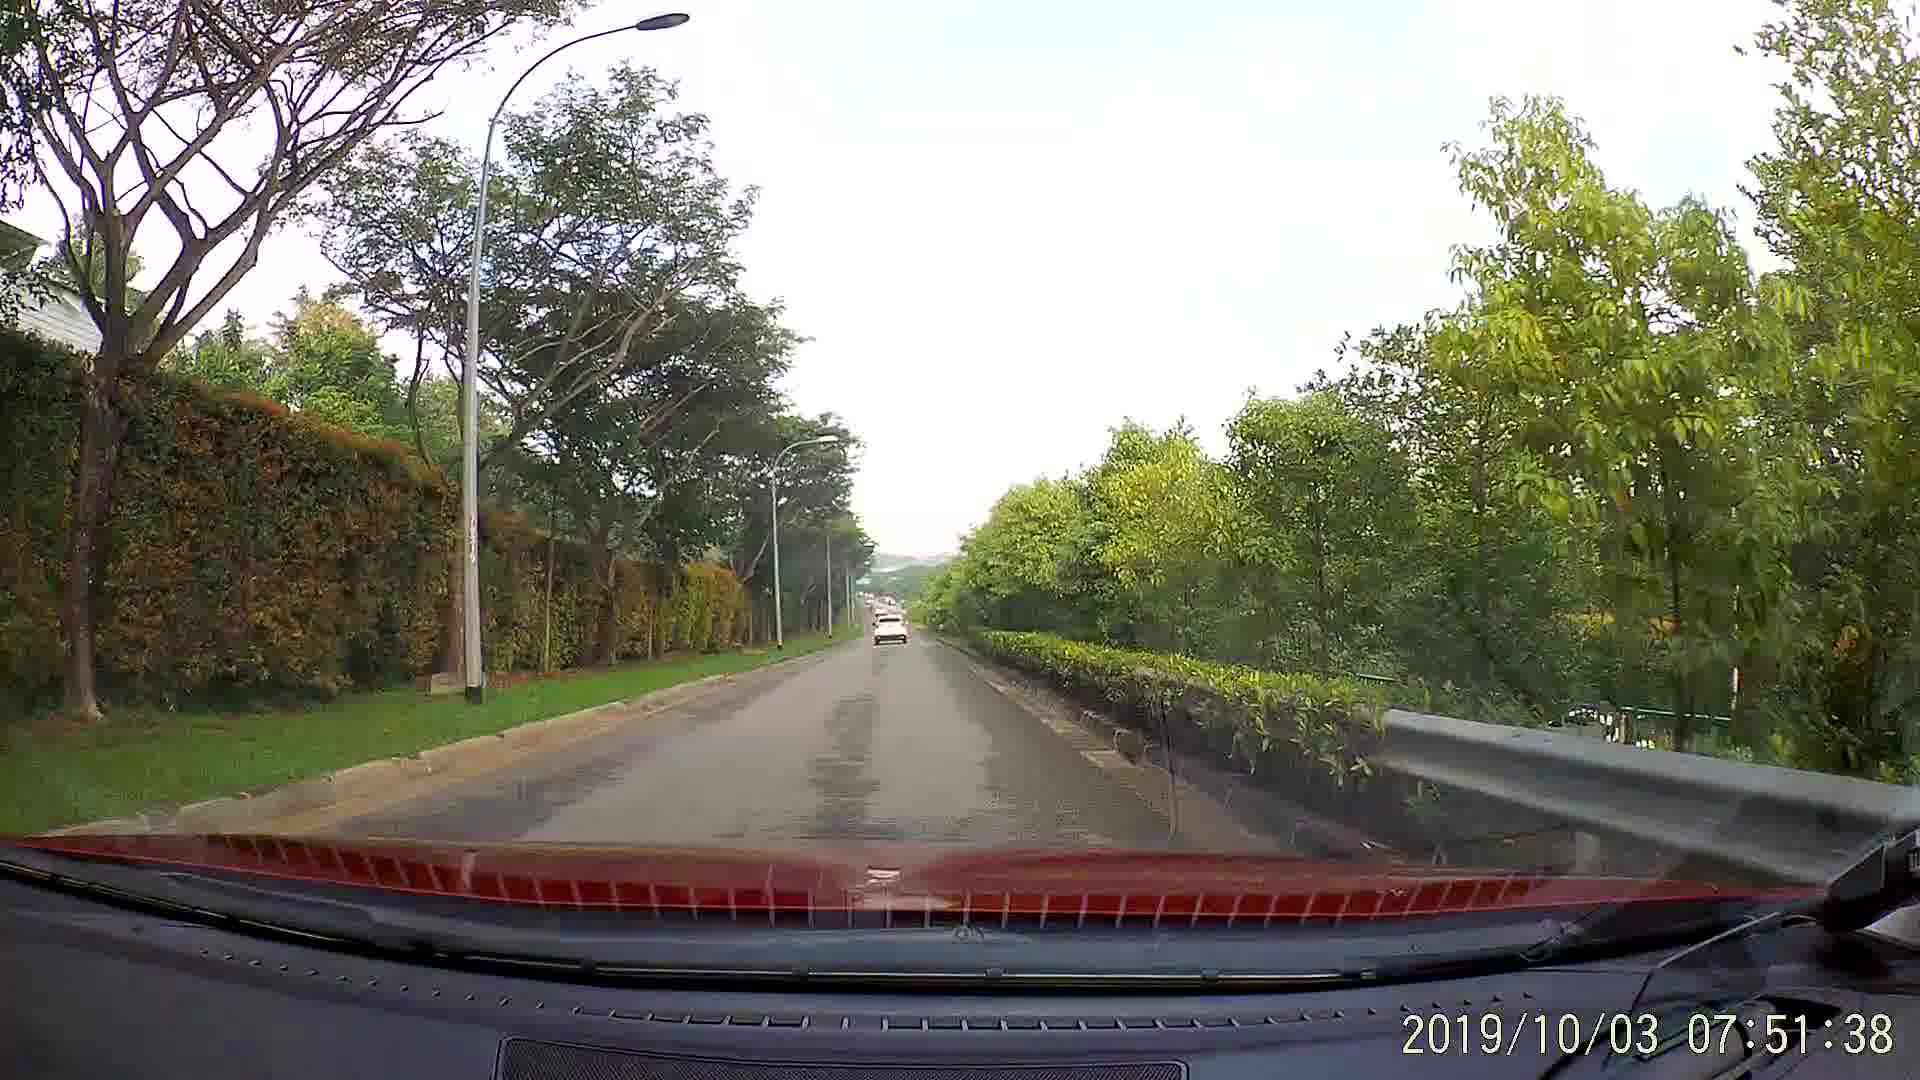car: (868, 608, 913, 649)
